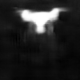plane: (16, 7, 66, 35)
